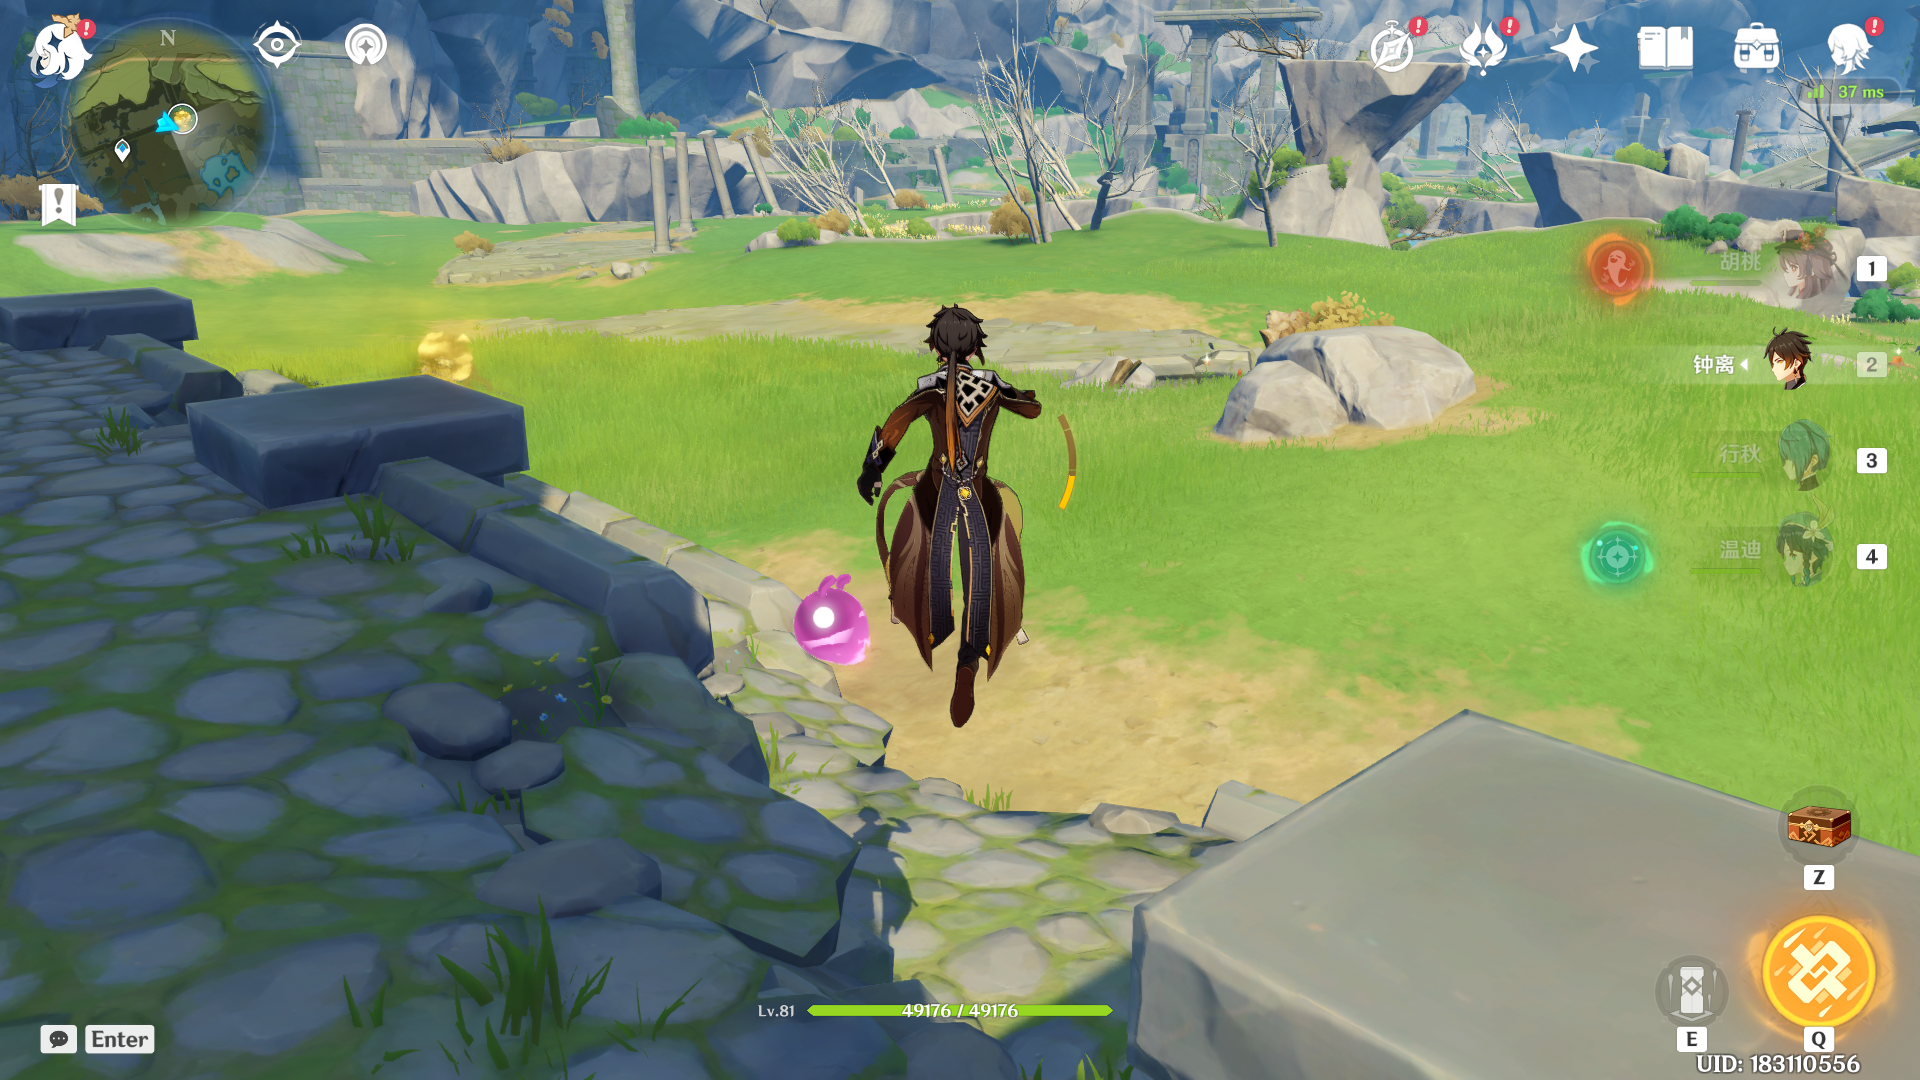character: (823, 299, 1083, 746)
